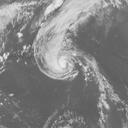cyclone: (32, 31, 83, 81)
